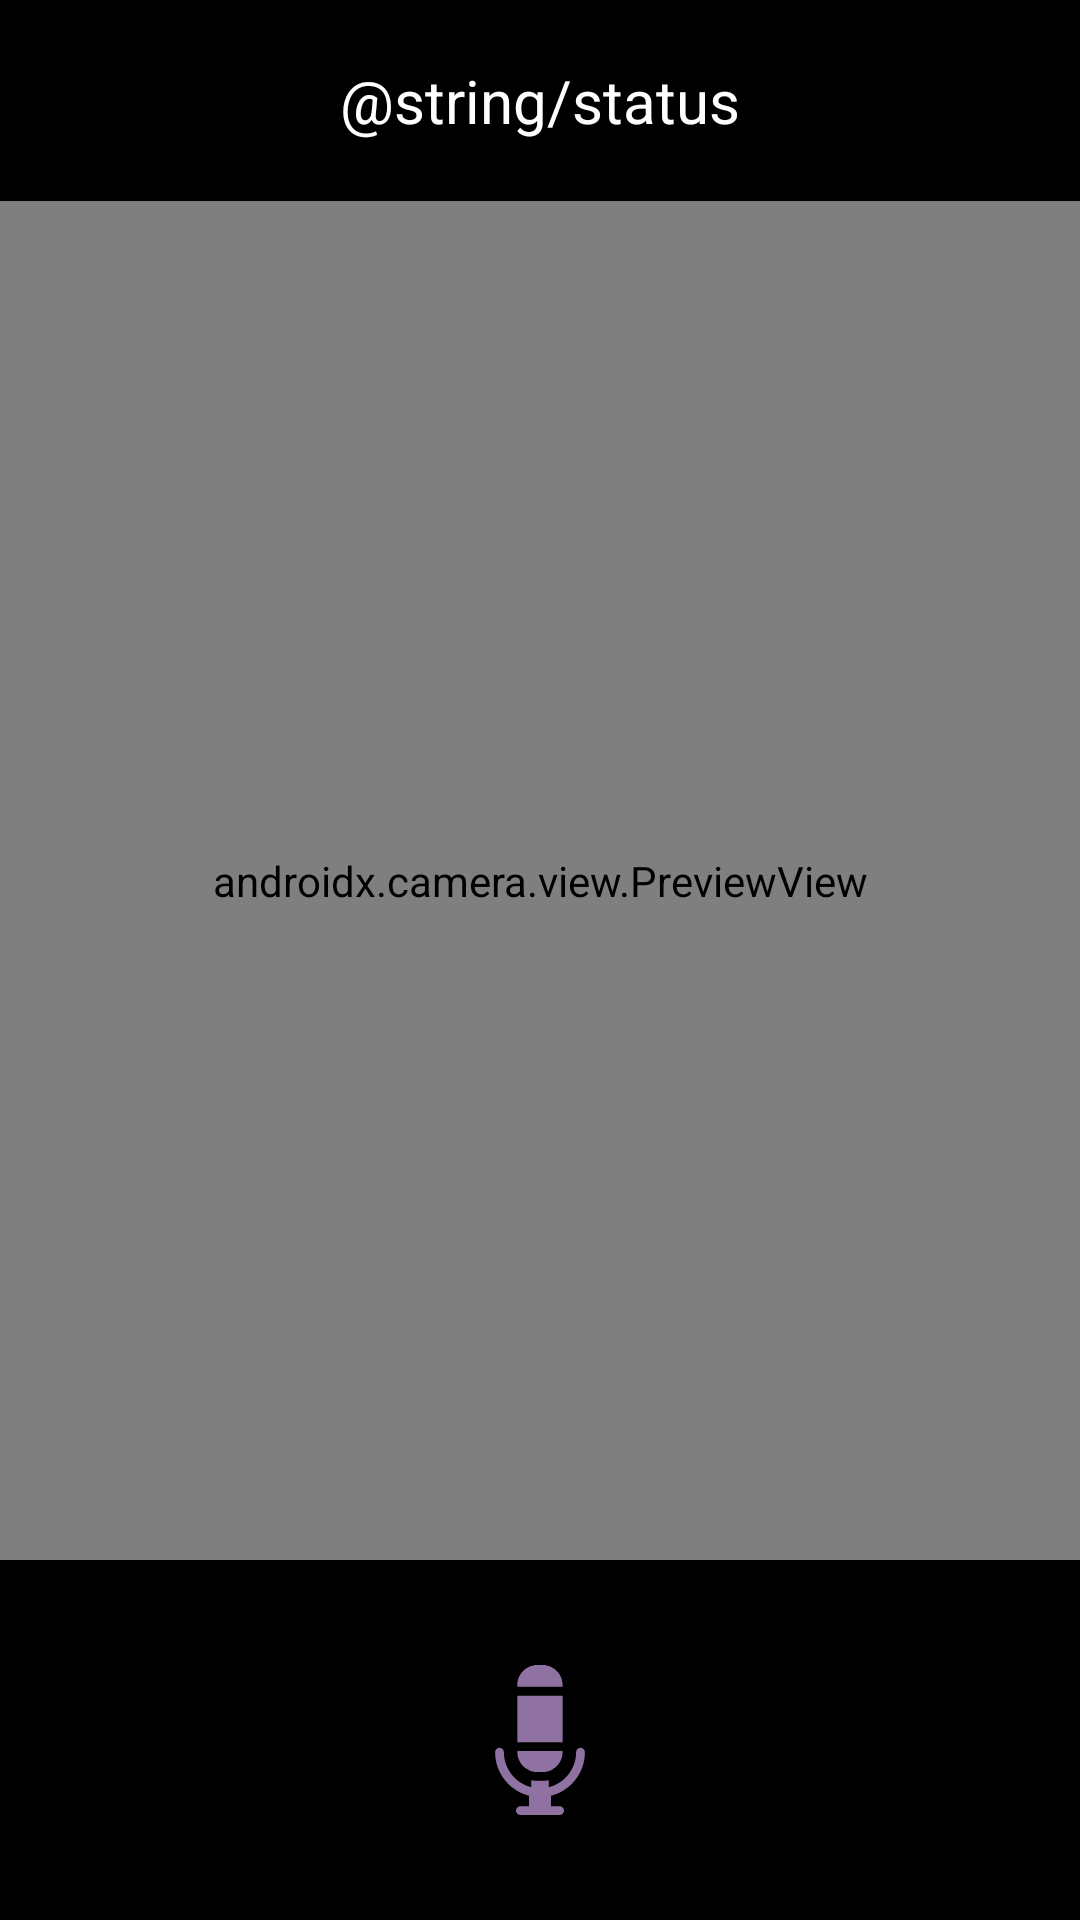

Point at icon controls on the screen. Image size 1080 x 1920, points as (x,y).
audio message: (540,1740)
